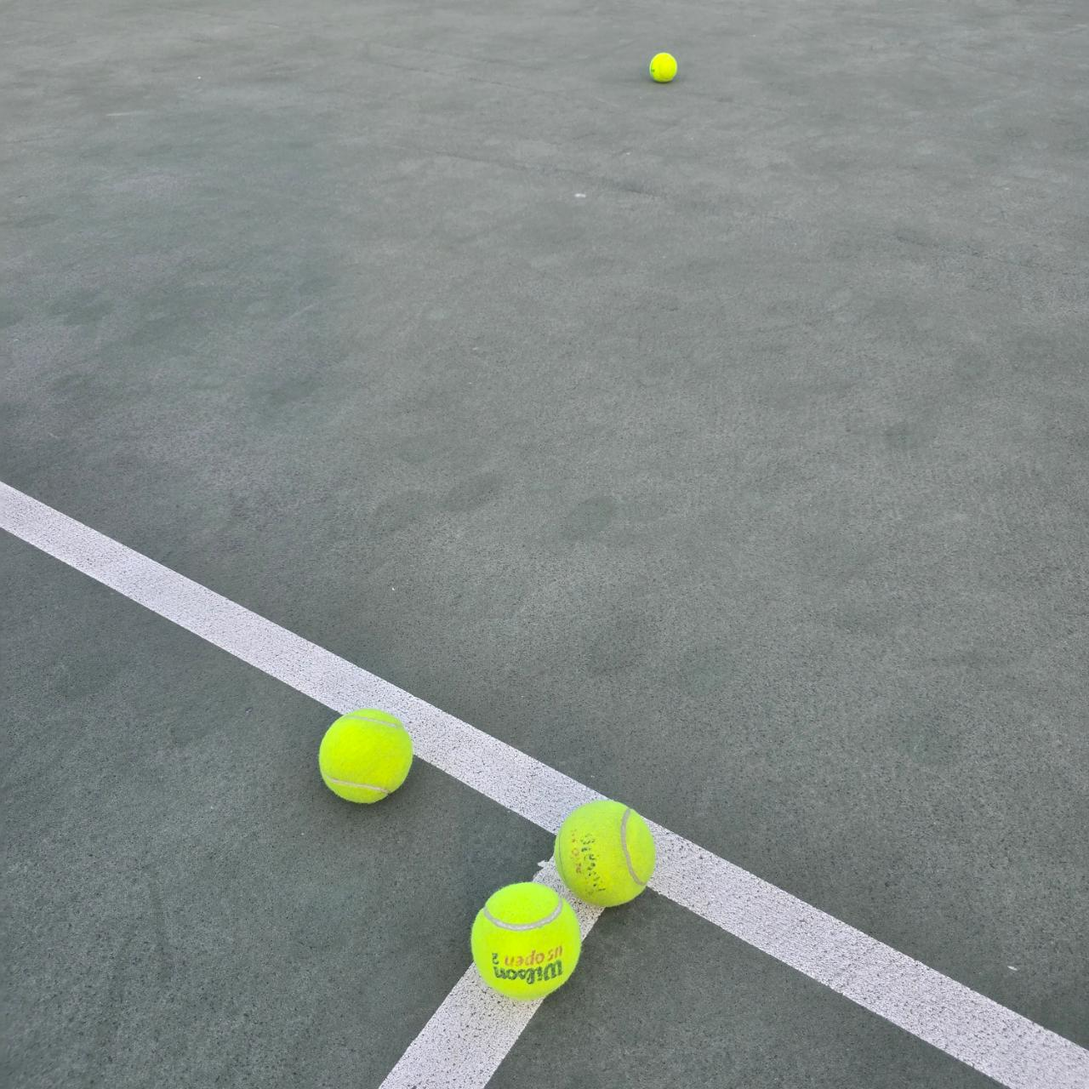tennis-ball: (468, 880, 581, 1001), (553, 798, 657, 908), (316, 706, 413, 805), (647, 49, 678, 83)
